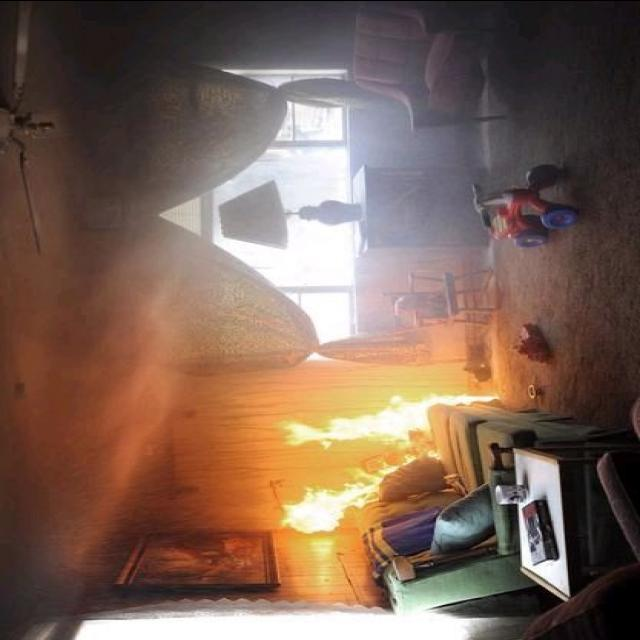Fire: (279, 393, 432, 533)
